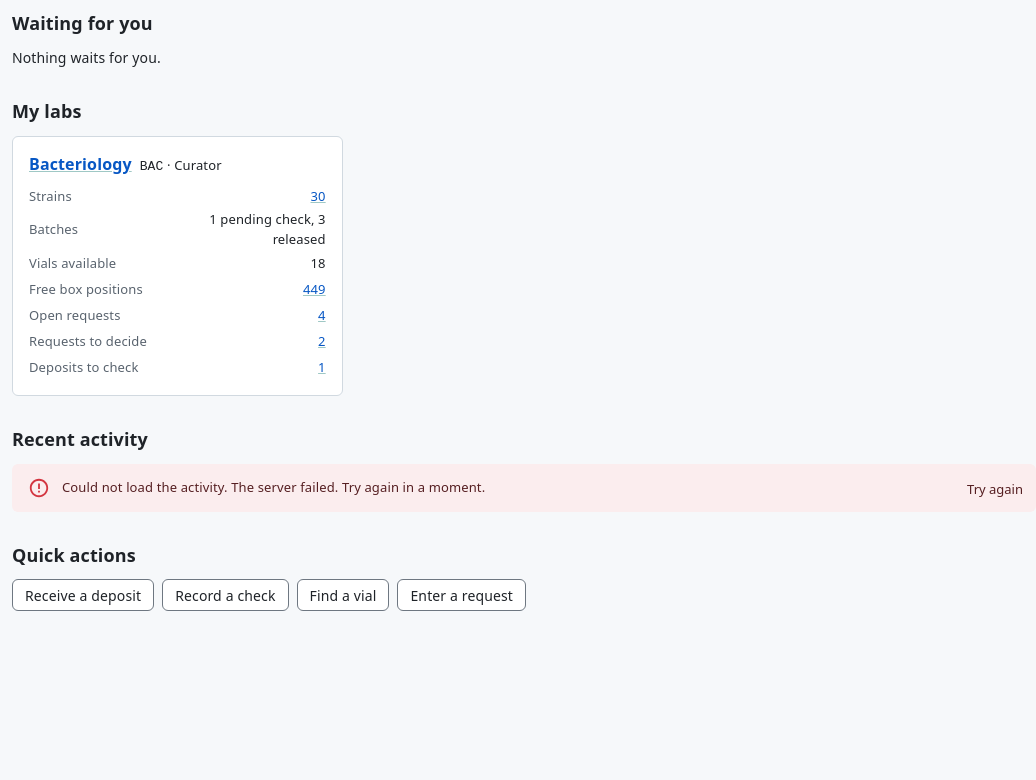
Home › shows a failed activity with a retry that works, and the rest of Home beside it
Check: the message shows "Could not load the activity. The server failed. Try again in a moment.", box [12,464,1035,512]
Check: the text "Nothing waits for you." is shown, box [12,48,161,67]
Click the button "Try again". click: (995, 489)
box: [962,474,1028,504]
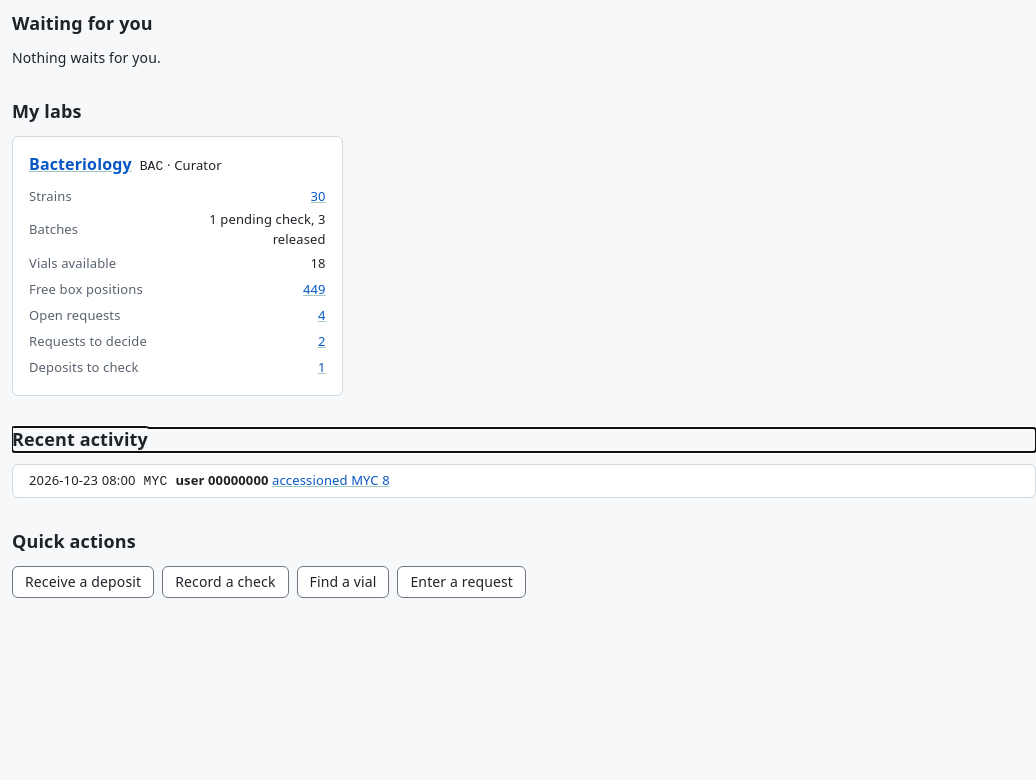
Check: the link "accessioned MYC 8" is shown, box [272,471,390,489]
